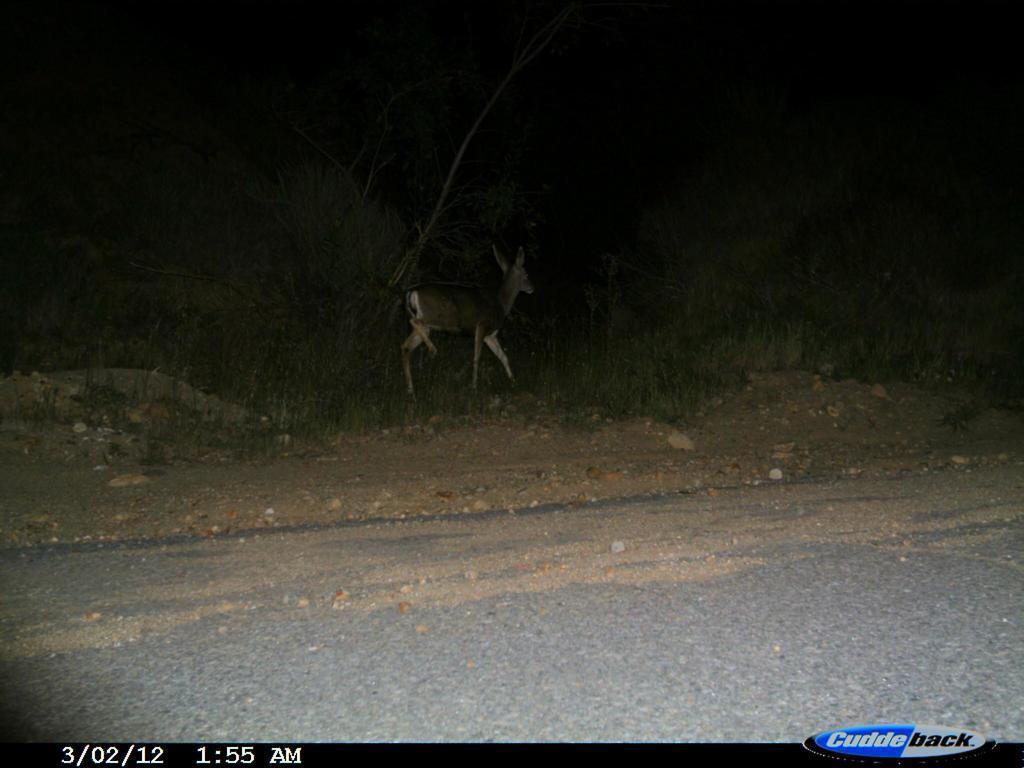deer: (402, 239, 542, 411)
